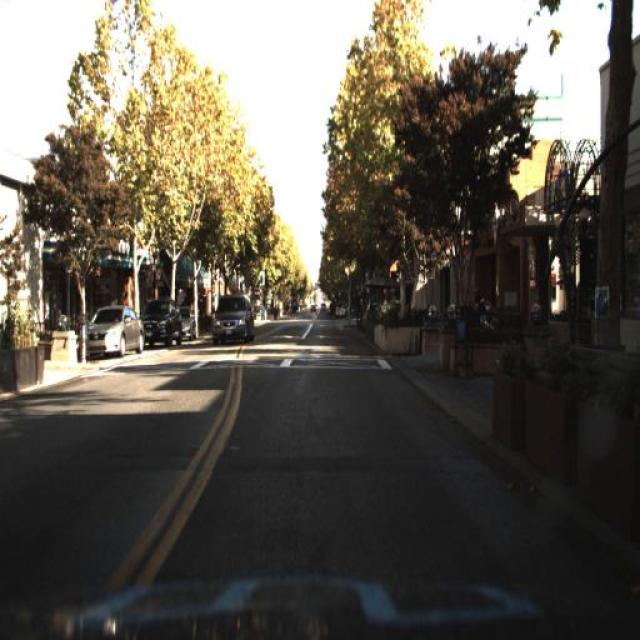car: (80, 304, 146, 360), (86, 300, 146, 360), (210, 290, 256, 346), (141, 293, 184, 349), (211, 295, 253, 341), (142, 296, 182, 344)
